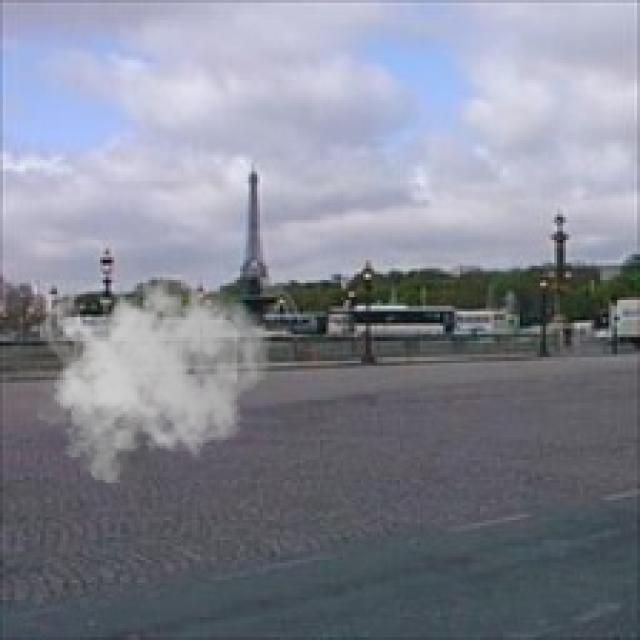smoke: (37, 260, 272, 483)
